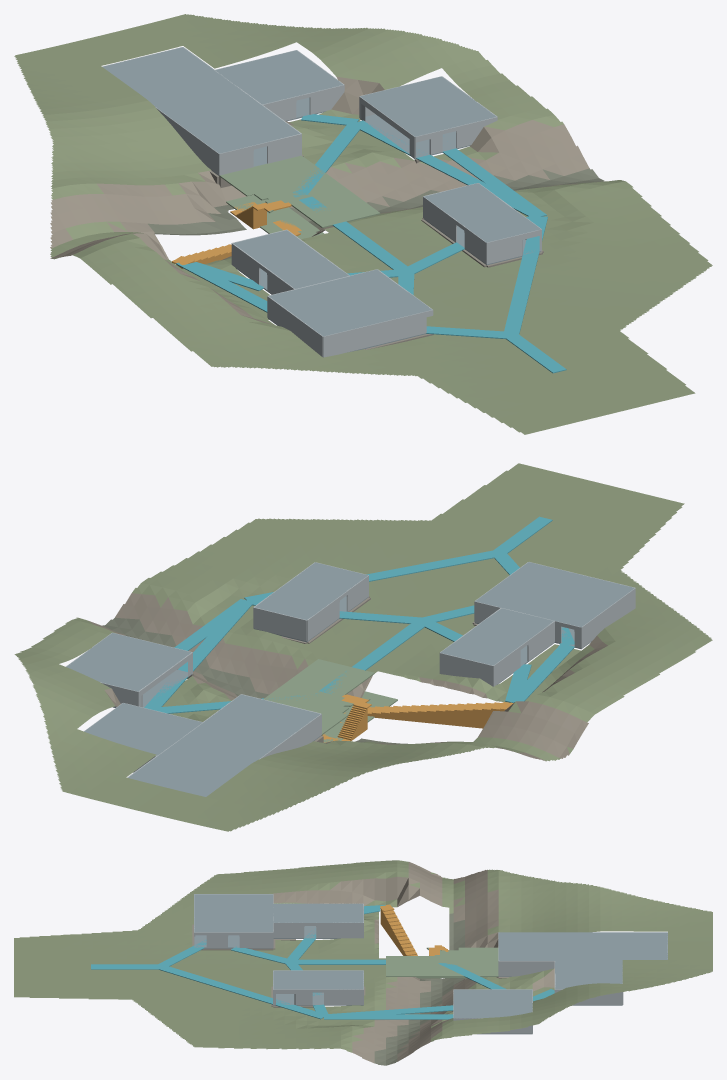
The model's file is supported-arrival.glb.
The picture shows the model from 3 angles, top to bottom: view 1: azimuth 30°, elevation 25°; view 2: azimuth 150°, elevation 25°; view 3: azimuth 270°, elevation 25°; orthographic projection. The views are drawn at different scales.
Parts seen in each view (by area): view 1: Saved editor stair bench terrain WLD-12, Ceiling cap tunnel, Ceiling cap signal, Ceiling cap store, Ceiling cap refuge, Ceiling cap coach-b, Ceiling cap coach-a, Flat route shell Wall signal S, L04 support 0, Floor trestle.008, L14 support 0, Bayed shell Floor lower (+15 smaller); view 2: Saved editor stair bench terrain WLD-12, Ceiling cap tunnel, Ceiling cap signal, Ceiling cap store, Ceiling cap refuge, Ceiling cap coach-b, Ceiling cap coach-a, Floor trestle.008, L14 support 0, L04 support 0, Wall coach-b N, Wall signal W (+11 smaller); view 3: Saved editor stair bench terrain WLD-12, Ceiling cap tunnel, Ceiling cap signal, Ceiling cap store, Ceiling cap coach-b, Ceiling cap coach-a, Ceiling cap refuge, L04 support 0, Floor trestle.008, Flat route shell Wall coach-a E, L15 support 0, Flat route shell Wall tunnel E.001 (+15 smaller).
Part boxes in pixels (bbox=[...]): Saved editor stair bench terrain WLD-12: bbox=[14, 14, 712, 434]; Ceiling cap tunnel: bbox=[102, 47, 299, 153]; Ceiling cap signal: bbox=[269, 269, 432, 336]; Ceiling cap store: bbox=[360, 76, 496, 136]; Ceiling cap refuge: bbox=[215, 50, 342, 104]; Ceiling cap coach-b: bbox=[424, 183, 540, 242]; Ceiling cap coach-a: bbox=[233, 230, 349, 288]; Flat route shell Wall signal S: bbox=[323, 310, 432, 357]; L04 support 0: bbox=[503, 216, 547, 335]; Floor trestle.008: bbox=[293, 188, 380, 226]; L14 support 0: bbox=[354, 120, 545, 218]; Bayed shell Floor lower: bbox=[226, 195, 324, 239]; Saved editor stair bench terrain WLD-12: bbox=[14, 463, 712, 831]; Ceiling cap tunnel: bbox=[128, 694, 320, 796]; Ceiling cap signal: bbox=[475, 562, 634, 627]; Ceiling cap store: bbox=[66, 633, 191, 691]; Ceiling cap refuge: bbox=[84, 703, 202, 755]; Ceiling cap coach-b: bbox=[255, 562, 367, 619]; Ceiling cap coach-a: bbox=[440, 608, 553, 665]; Floor trestle.008: bbox=[285, 659, 369, 695]; L14 support 0: bbox=[144, 599, 253, 710]; L04 support 0: bbox=[244, 550, 501, 602]; Wall coach-b N: bbox=[253, 607, 306, 641]; Wall signal W: bbox=[581, 588, 635, 648]; Saved editor stair bench terrain WLD-12: bbox=[14, 860, 712, 1065]; Ceiling cap tunnel: bbox=[498, 932, 667, 960]; Ceiling cap signal: bbox=[194, 894, 273, 932]; Ceiling cap store: bbox=[453, 989, 532, 1018]; Ceiling cap coach-b: bbox=[273, 970, 363, 989]; Ceiling cap coach-a: bbox=[273, 903, 363, 922]; Ceiling cap refuge: bbox=[555, 961, 622, 989]; L04 support 0: bbox=[157, 965, 325, 1019]; Floor trestle.008: bbox=[386, 957, 434, 976]; Flat route shell Wall coach-a E: bbox=[316, 922, 363, 938]; L15 support 0: bbox=[324, 1014, 453, 1019]; Flat route shell Wall tunnel E.001: bbox=[498, 961, 554, 976].
Bounding box in the file's own units: 75 × 10.11 × 124.
